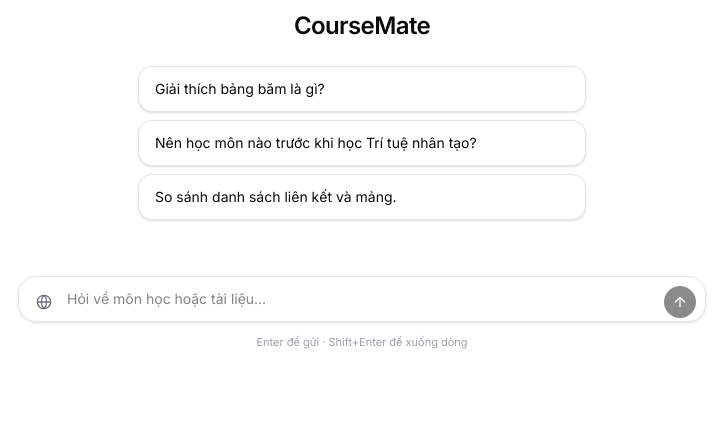
Scenario: ChatPage streaming › shows the server error detail and clears the in-flight state
Type "hỏi gì đó" into the text box with placeholder "Hỏi về môn học hoặc tài liệu…" at (362, 299), box [18,276,706,322]
Then press Enter
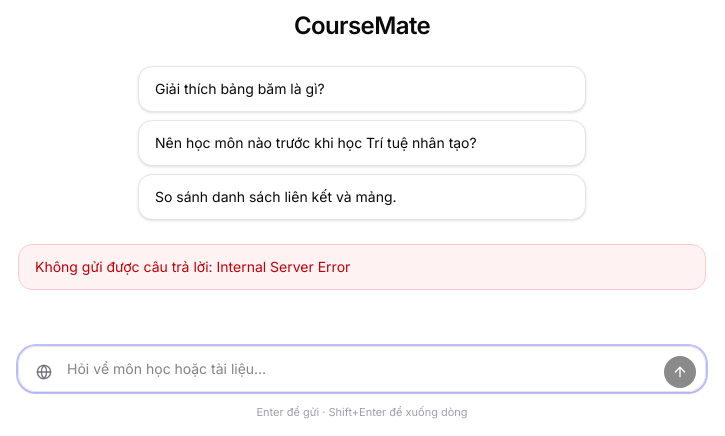
Expected: the text "Không gửi được câu trả lời: Internal Server Error" is shown, [18,244,706,290]
